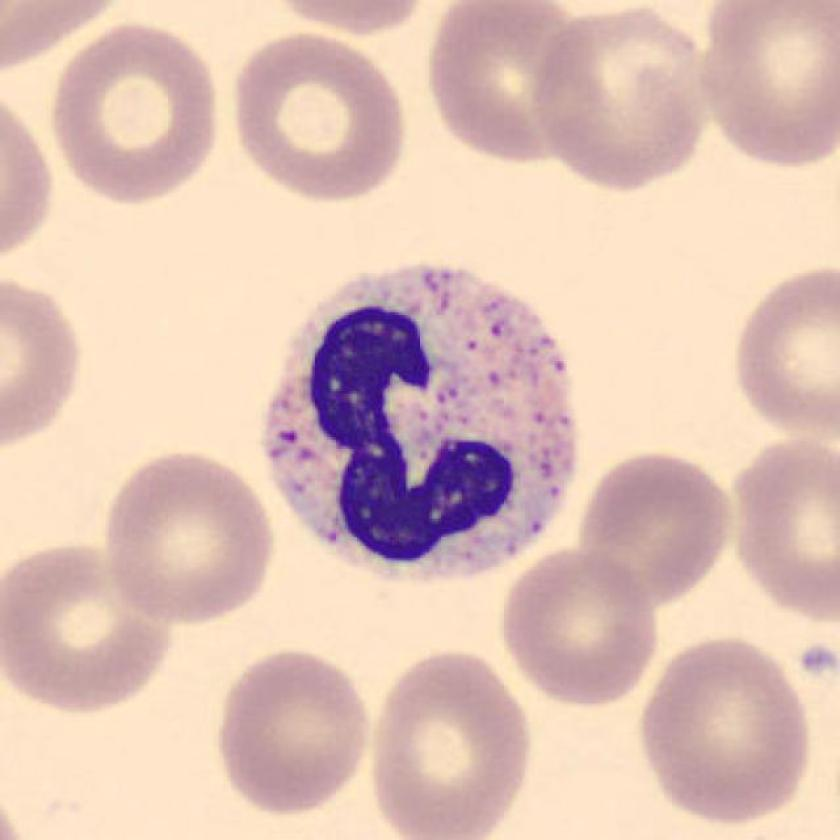neutrophil: (265, 266, 576, 584)
